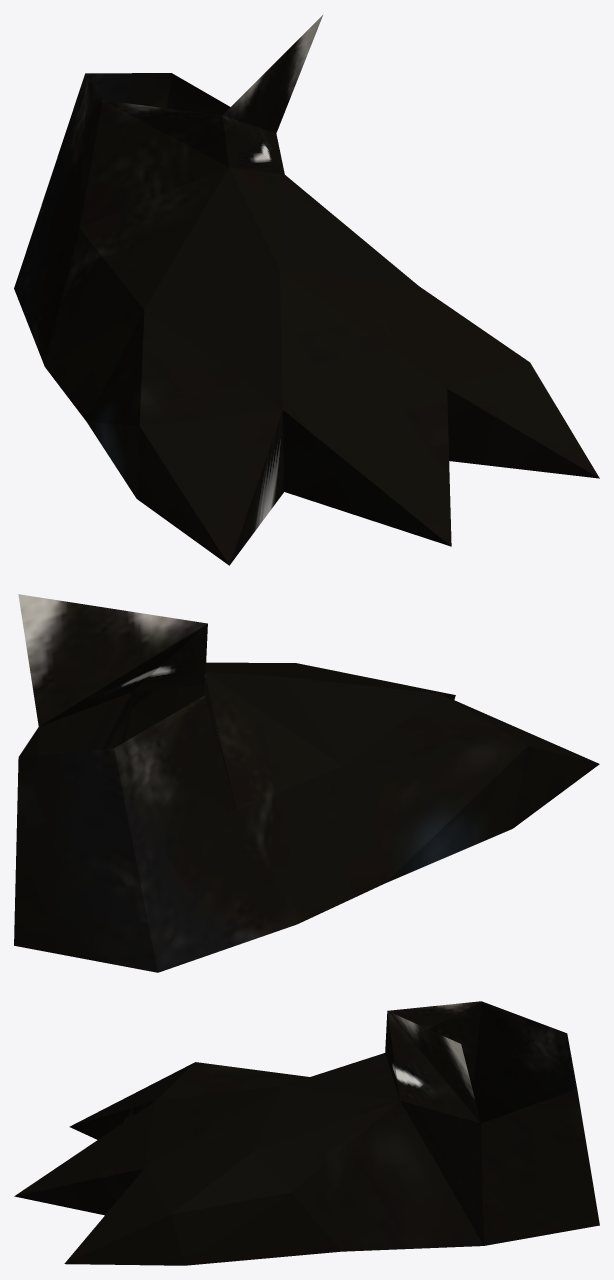
The model's file is Pie_der.obj.
3 renders of one model, top to bottom at view 1: azimuth 30°, elevation 25°; view 2: azimuth 150°, elevation 25°; view 3: azimuth 270°, elevation 25°, orthographic. The views are drawn at different scales.
Parts seen in each view (by area): view 1: polySurface7; view 2: polySurface7; view 3: polySurface7.
Part boxes in pixels (bbox=[...]): polySurface7: bbox=[14, 15, 599, 565]; polySurface7: bbox=[14, 594, 599, 972]; polySurface7: bbox=[14, 1001, 599, 1265].
Bounding box in the file's own units: 0.2755 × 0.1938 × 0.4817.
1 material, 1 textured.
